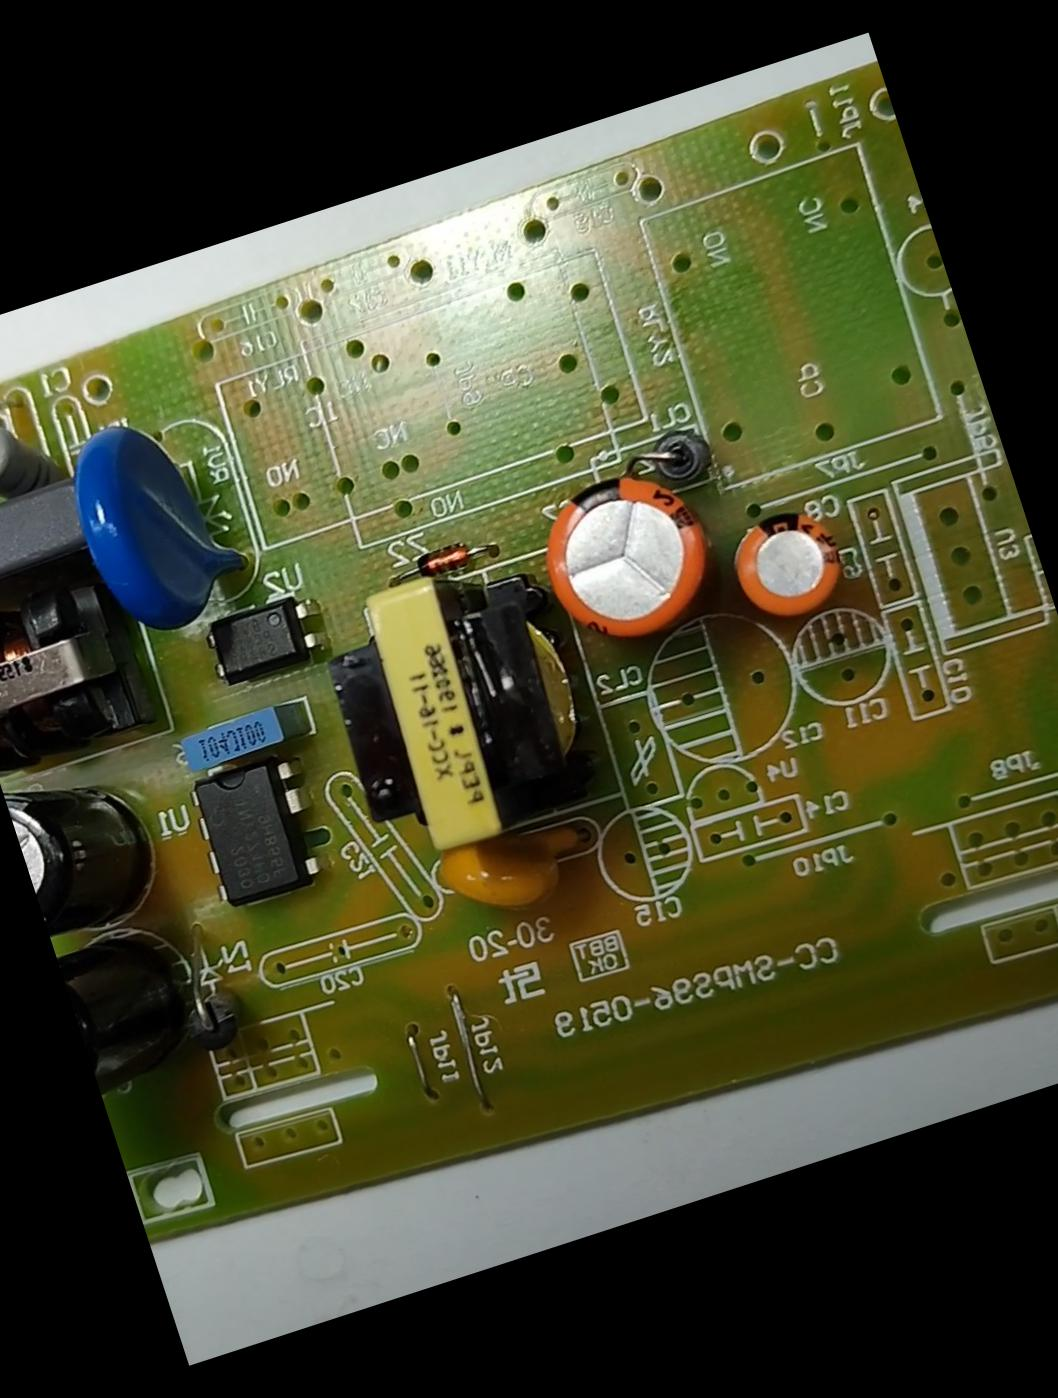Cap1: (527, 458, 729, 660)
Cap2: (716, 489, 859, 631)
Cap3: (1, 749, 168, 942)
Cap4: (56, 917, 217, 1105)
MOSFET: (177, 749, 331, 918)
Mov: (49, 403, 248, 656)
Resistor: (0, 398, 61, 515)
Transformer: (298, 532, 626, 877), (0, 562, 153, 778)
